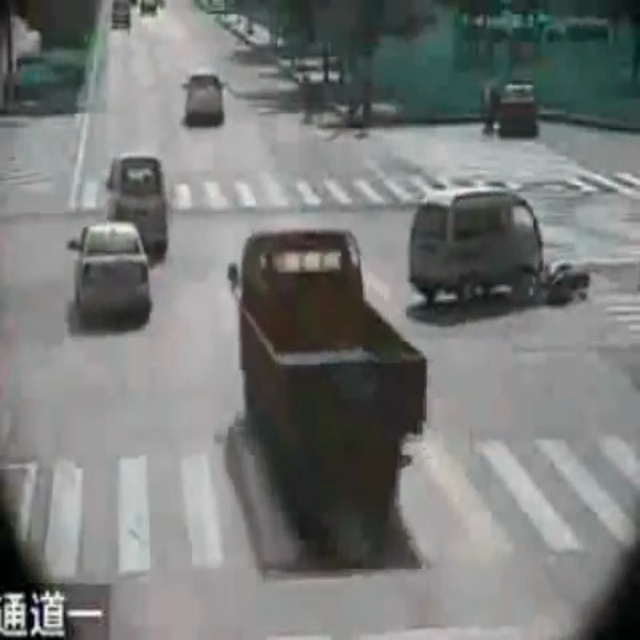acc: (403, 180, 597, 324)
